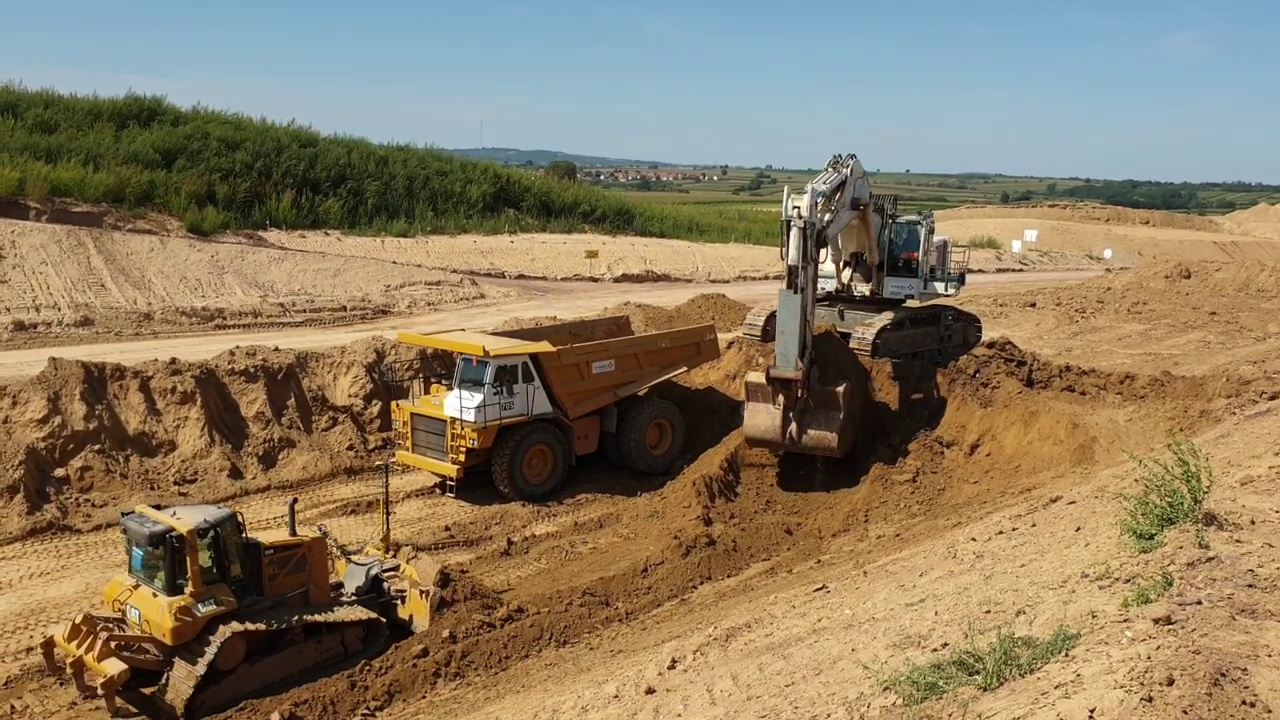bulldozer: (37, 457, 452, 719)
excavator: (733, 150, 988, 467)
truck: (377, 309, 728, 510)
